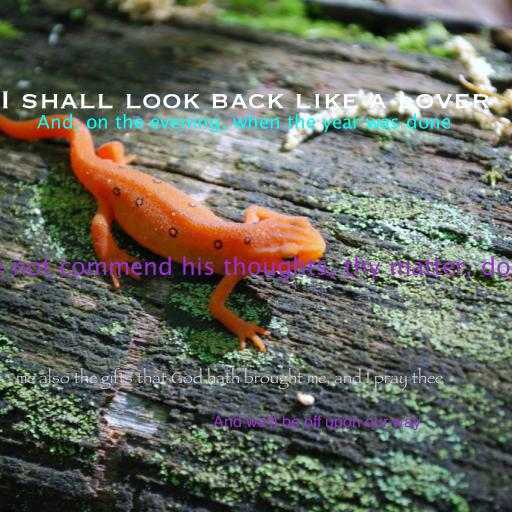Copperplate: (0, 91, 491, 109)
Lucida Grande: (0, 256, 512, 280), (37, 114, 451, 133)
Papyrus: (15, 367, 443, 391)
SF Pro: (213, 415, 421, 431)
